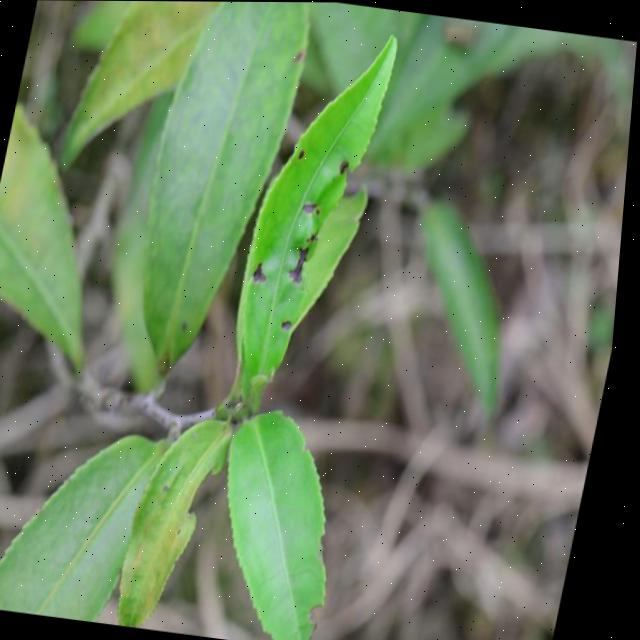Tea red scab: (280, 187, 340, 288), (245, 252, 282, 296), (278, 308, 306, 344), (335, 147, 357, 185), (293, 134, 312, 167)
